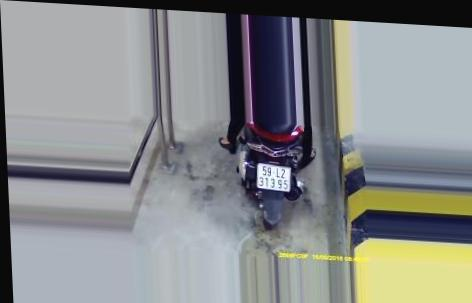License_Plate: (251, 161, 294, 195)
